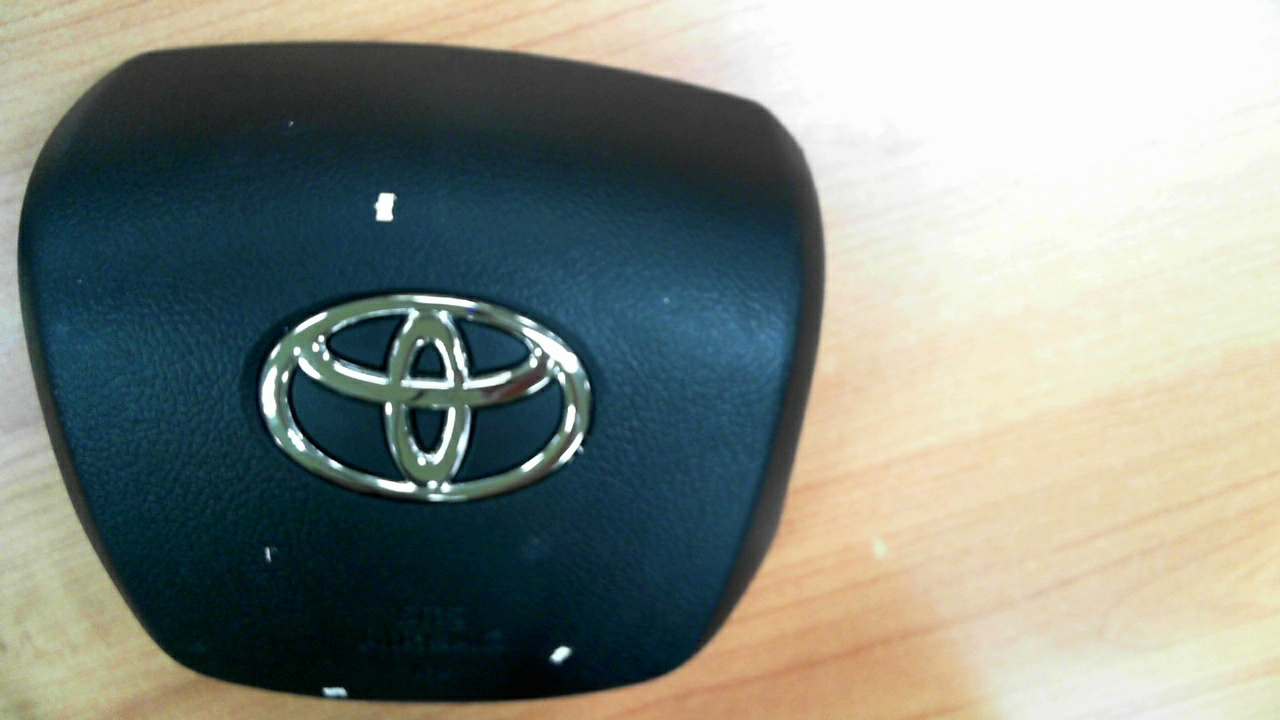Airbag: (17, 43, 827, 701)
Mark: (373, 191, 397, 223), (550, 646, 571, 663), (322, 686, 347, 698), (265, 547, 272, 562), (663, 296, 671, 305), (288, 120, 294, 127)
